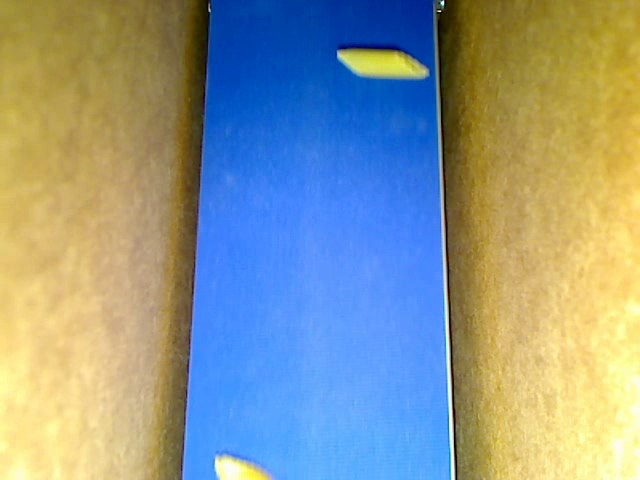penne: (335, 49, 430, 80)
